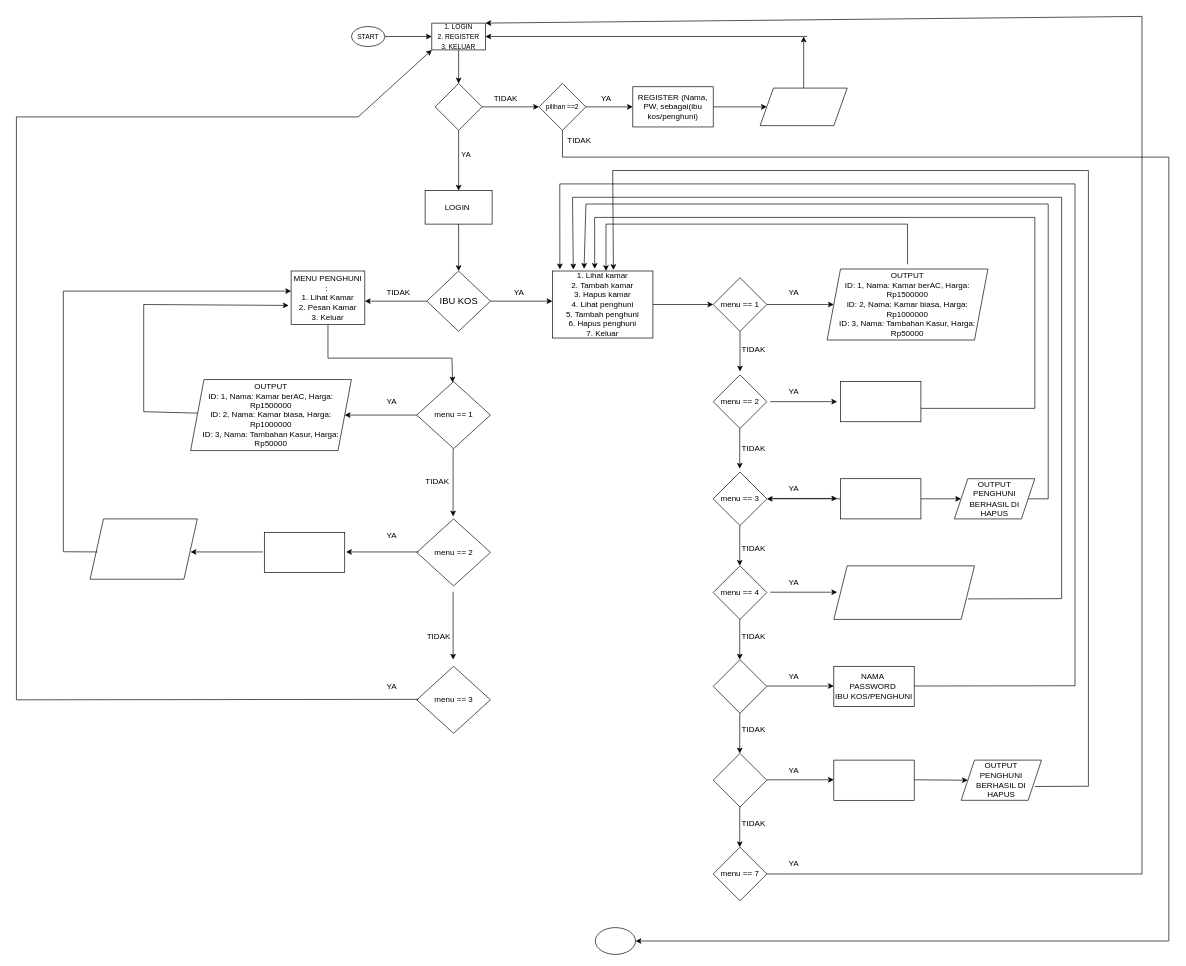
Image size: 1186x966. Some labels were removed from this diagram. The shapes that lost their labels are listed below. From the top down, each one's box as (x1, y1, x2, y2) in pixels, then its label:
(434, 83, 482, 130): pilihan ==1
(759, 87, 847, 126): Berhasil Register, Silahkan Login
(840, 381, 921, 422): NAMA KAMAR HARGA KAMAR
(840, 478, 921, 519): MASUKKAN ID KAMAR YANG INGIN DI HAPUS
(89, 518, 197, 579): OUTPUT KAMAR BERHASIL DI PESAN
(264, 532, 345, 573): MASUKKAN ID KAMAR YANG INGIN DI PESAN
(833, 565, 975, 619): OUTPUT ID: 1, Nama: rasyid, Status: ibu kos ID: 2, Nama: , Status:
(713, 659, 767, 713): menu == 5
(713, 753, 767, 807): menu == 6
(833, 759, 914, 800): MASUKKAN ID PENGHUNI YANG INGIN DI HAPUS
(595, 927, 635, 954): END
